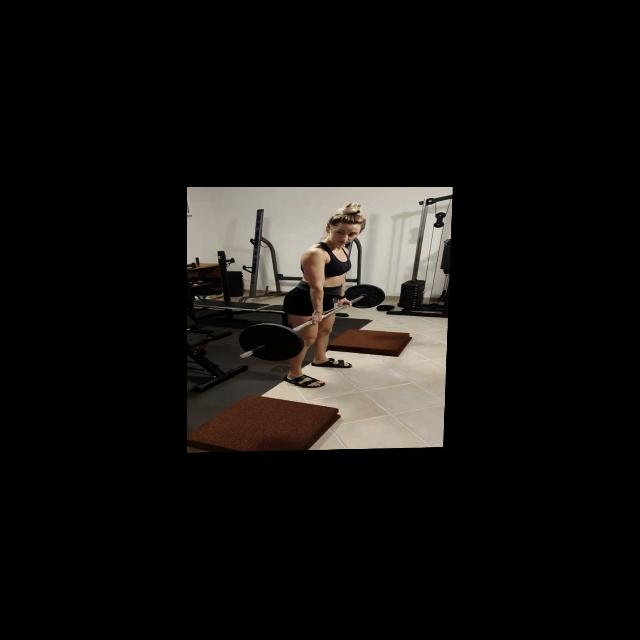barbell: (236, 320, 307, 364)
